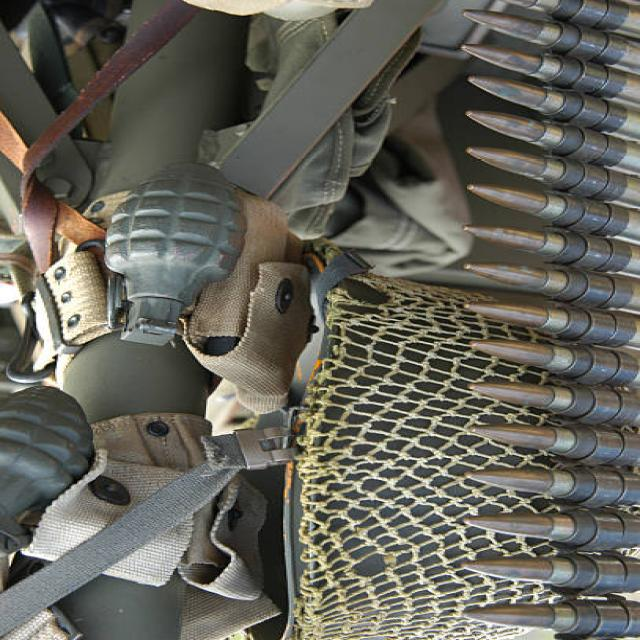grenade: (87, 163, 253, 345)
